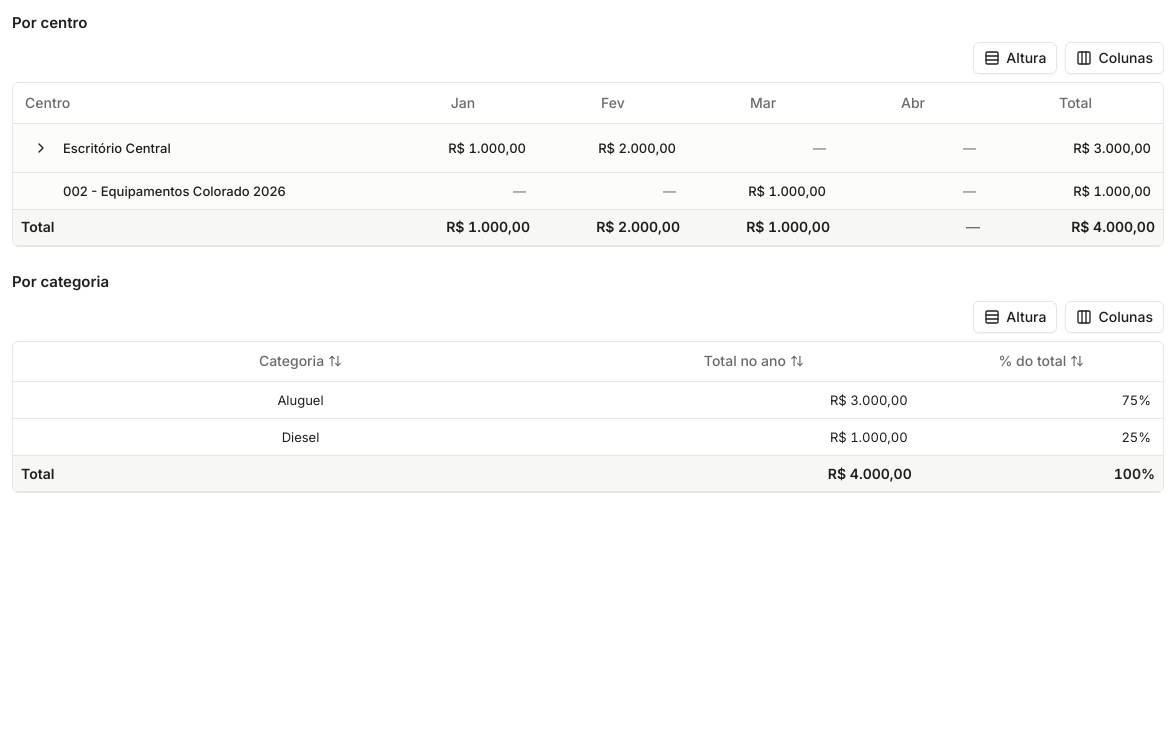
CustosIndiretosTabela › agrupa pela raiz com subtotal e mostra zero como traço
Click the button named "Abrir Escritório Central": (41, 148) top-left (25, 132), bottom-right (57, 164)
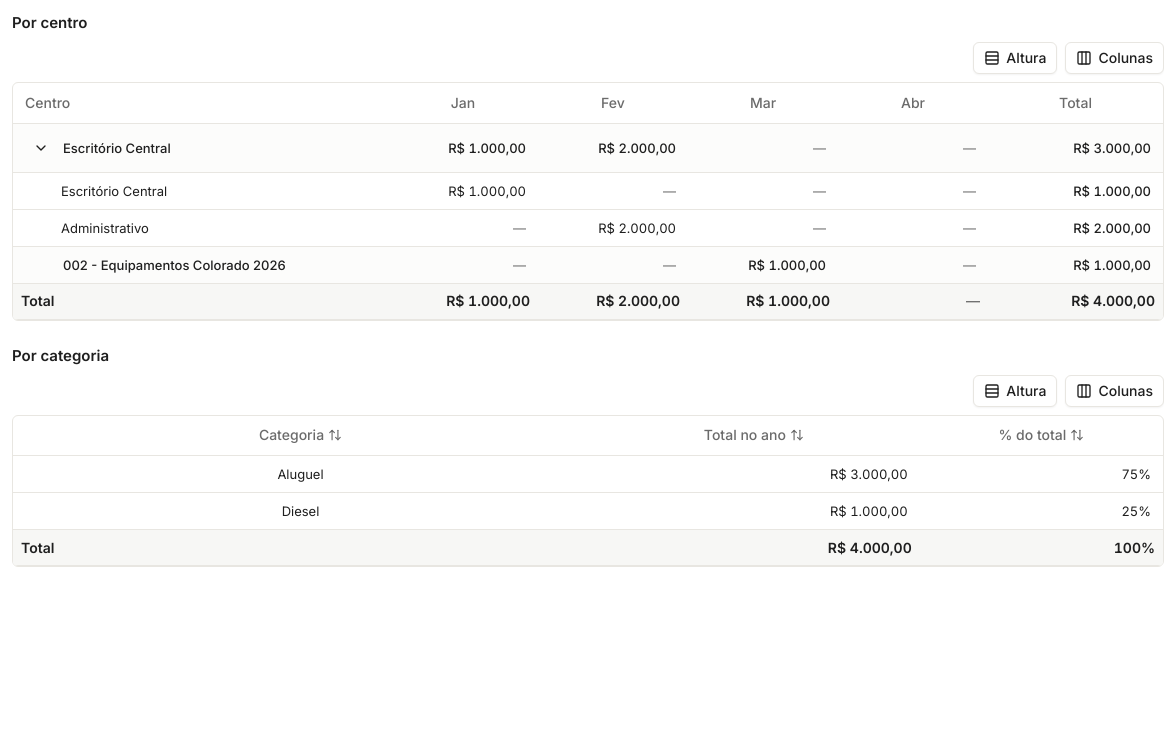
Expected: the row "Escritório Central R$ 1.000,00 R$ 2.000,00 — — R$ 3.000,00" is shown, top-left (13, 123), bottom-right (1163, 172)
Result: the text "—" is shown 3 times at top-left (513, 220), bottom-right (526, 236); top-left (813, 220), bottom-right (826, 236); top-left (963, 220), bottom-right (976, 236)
